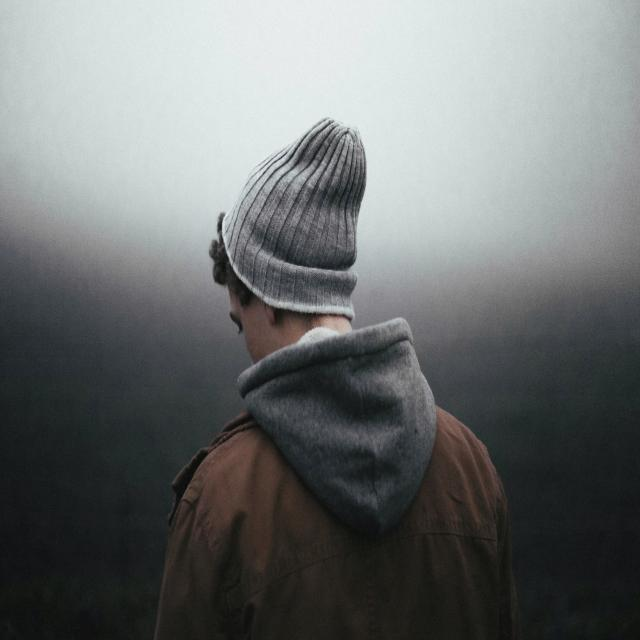adult: (156, 117, 505, 640)
